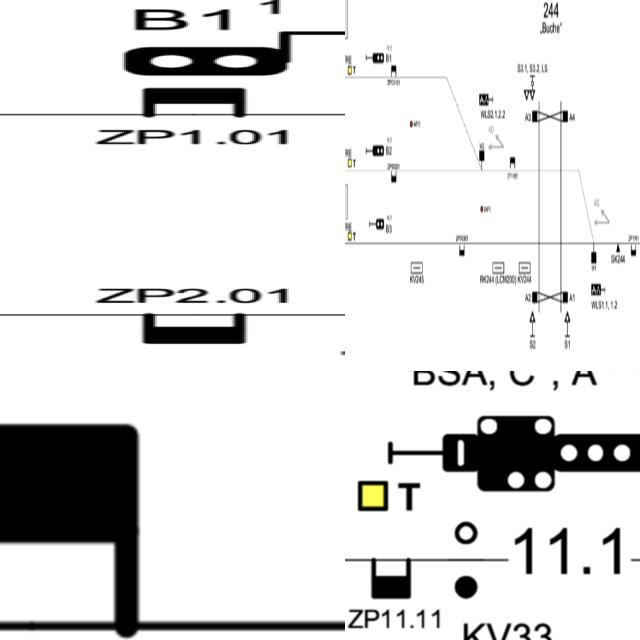radzaehler: (0, 398, 179, 640), (126, 82, 277, 124), (129, 310, 263, 350), (359, 548, 421, 604), (389, 61, 399, 82), (389, 168, 398, 187), (458, 241, 466, 259), (508, 154, 516, 172), (630, 241, 638, 259)
tracknumber: (506, 517, 636, 589)
weiche: (478, 146, 487, 178), (590, 240, 597, 266)
